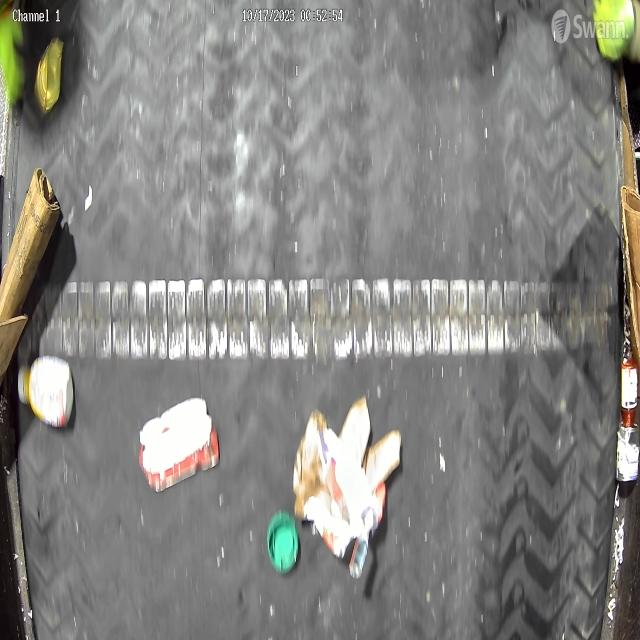can: (35, 38, 64, 110), (616, 422, 640, 482)
